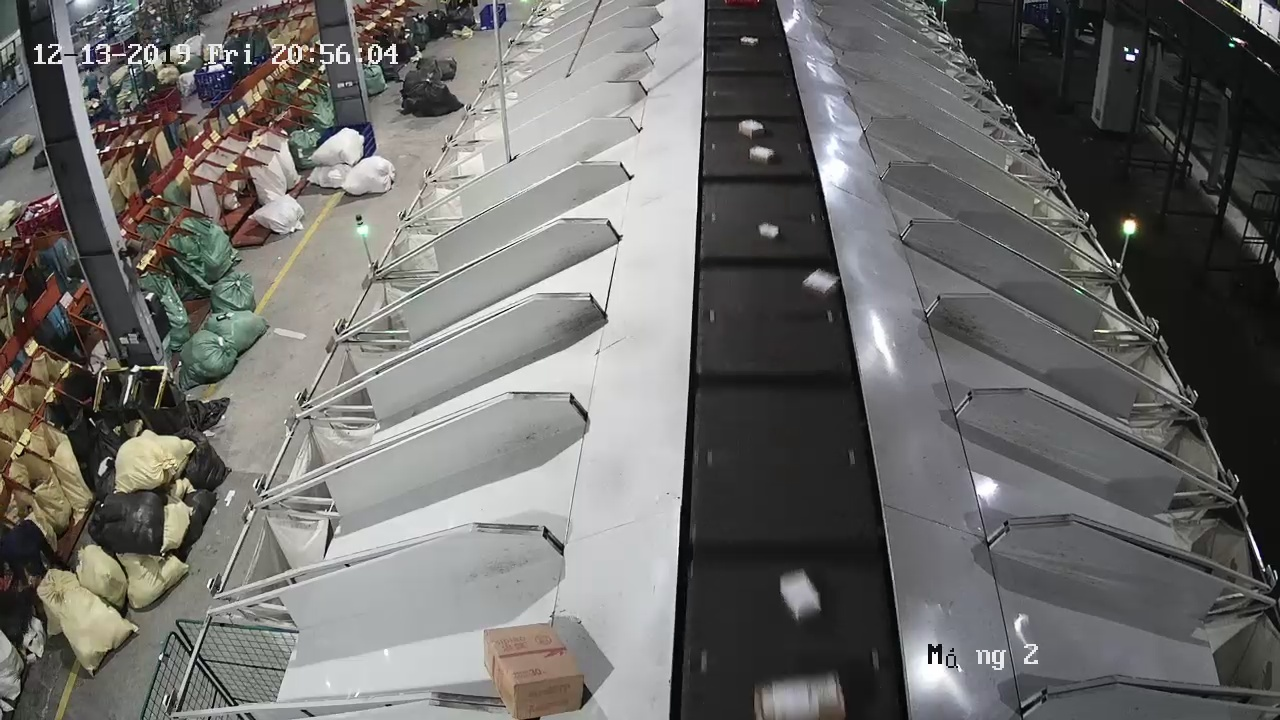parcel: (802, 267, 841, 299)
